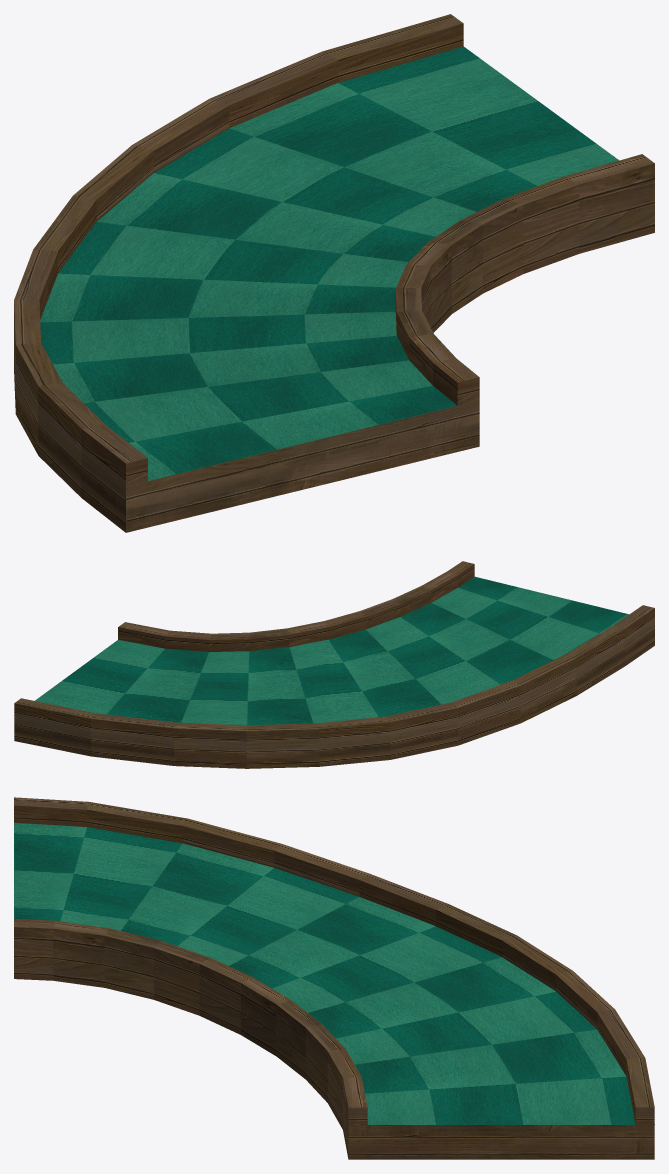
File: PartBigHalfCurveRamp.gltf
The picture shows the model from 3 angles, top to bottom: view 1: azimuth 30°, elevation 25°; view 2: azimuth 150°, elevation 25°; view 3: azimuth 270°, elevation 25°; orthographic projection. The views are drawn at different scales.
Parts seen in each view (by area): view 1: PartBigHalfCurveRamp_grass_glb, PartBigHalfCurveRamp_wood_glb; view 2: PartBigHalfCurveRamp_grass_glb, PartBigHalfCurveRamp_wood_glb; view 3: PartBigHalfCurveRamp_grass_glb, PartBigHalfCurveRamp_wood_glb.
Part boxes in pixels (x1,y1,x2,y2): PartBigHalfCurveRamp_grass_glb: [40, 46, 619, 481]; PartBigHalfCurveRamp_wood_glb: [14, 14, 654, 532]; PartBigHalfCurveRamp_grass_glb: [15, 576, 628, 725]; PartBigHalfCurveRamp_wood_glb: [14, 561, 654, 768]; PartBigHalfCurveRamp_grass_glb: [14, 823, 654, 1124]; PartBigHalfCurveRamp_wood_glb: [14, 797, 654, 1159].
Size of what is drawn, in the model's own units: 8.5 by 1.25 by 8.36.
Materials: 2 (2 with a texture image).
